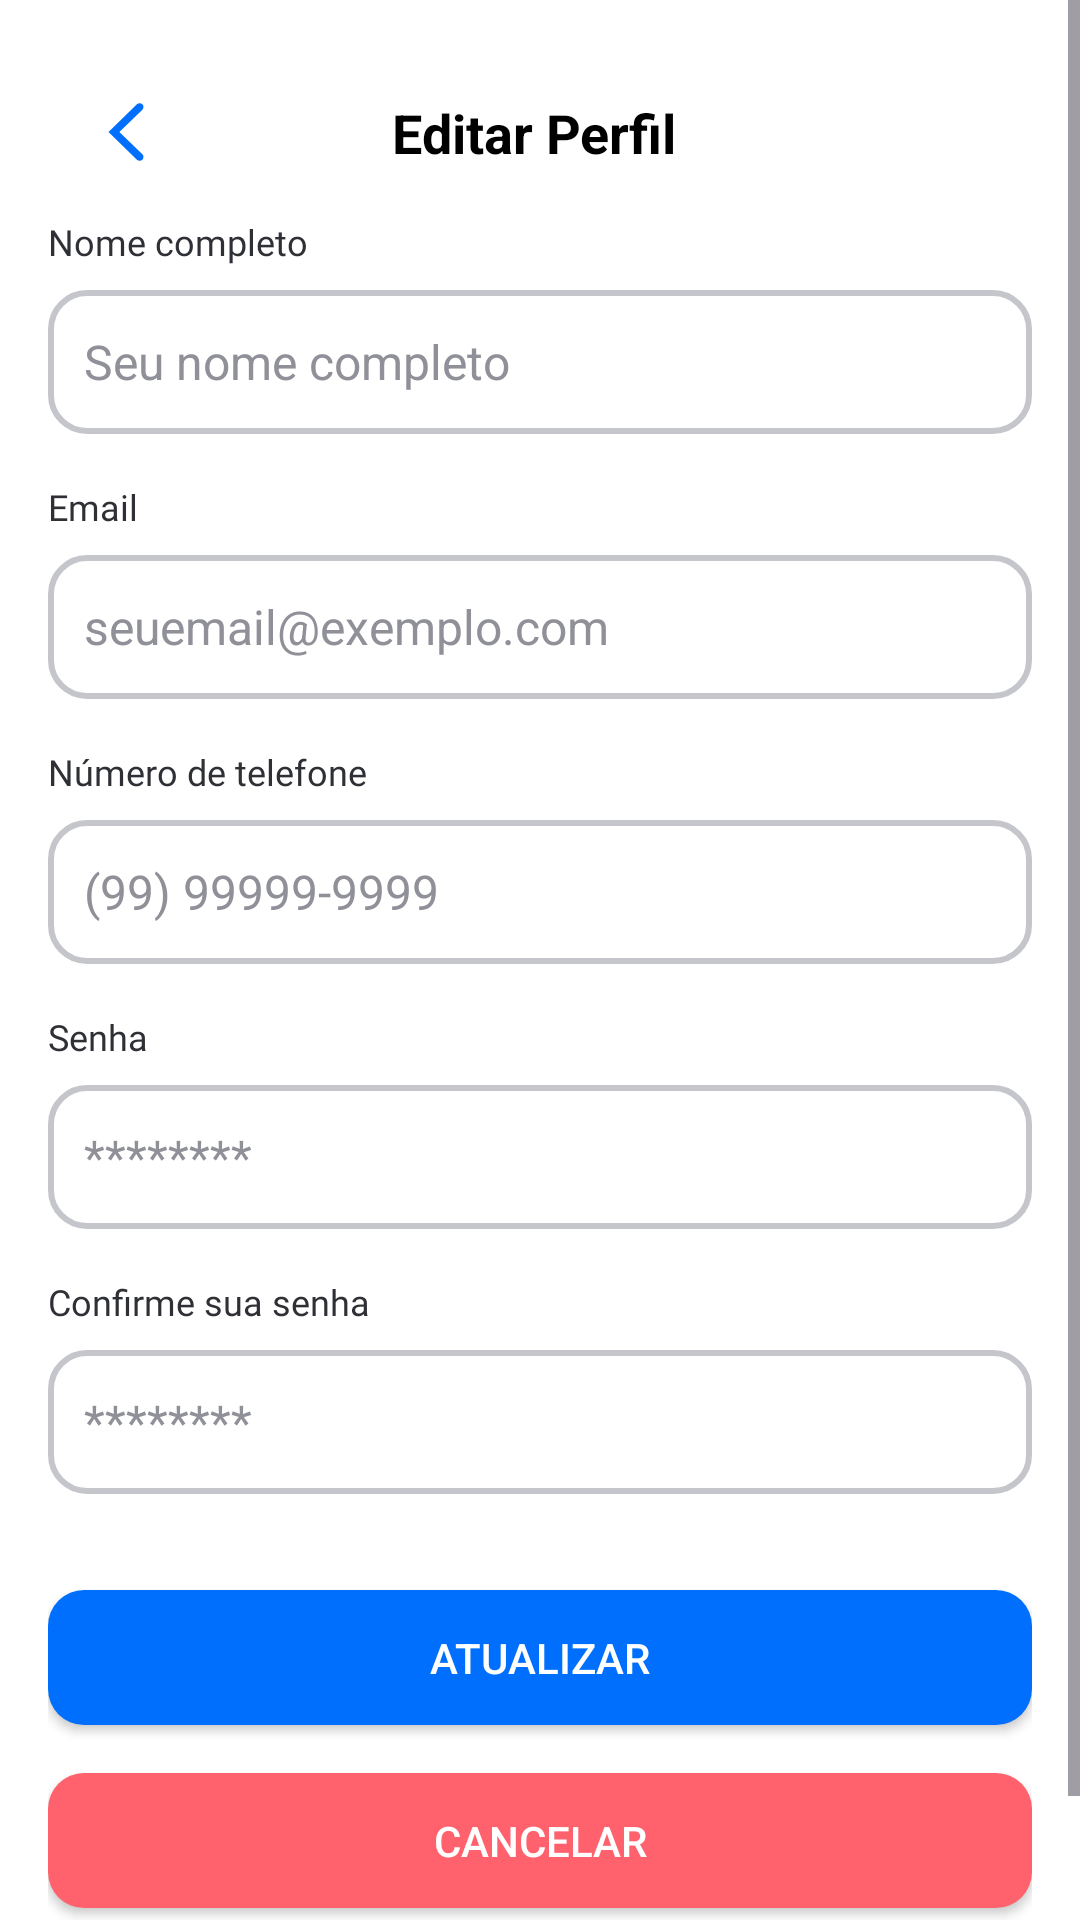

Screen size 1080×1920. Icon name, then its box in pixels as (x1, y1, x2, y2):
Voltar: (108, 103, 144, 161)
